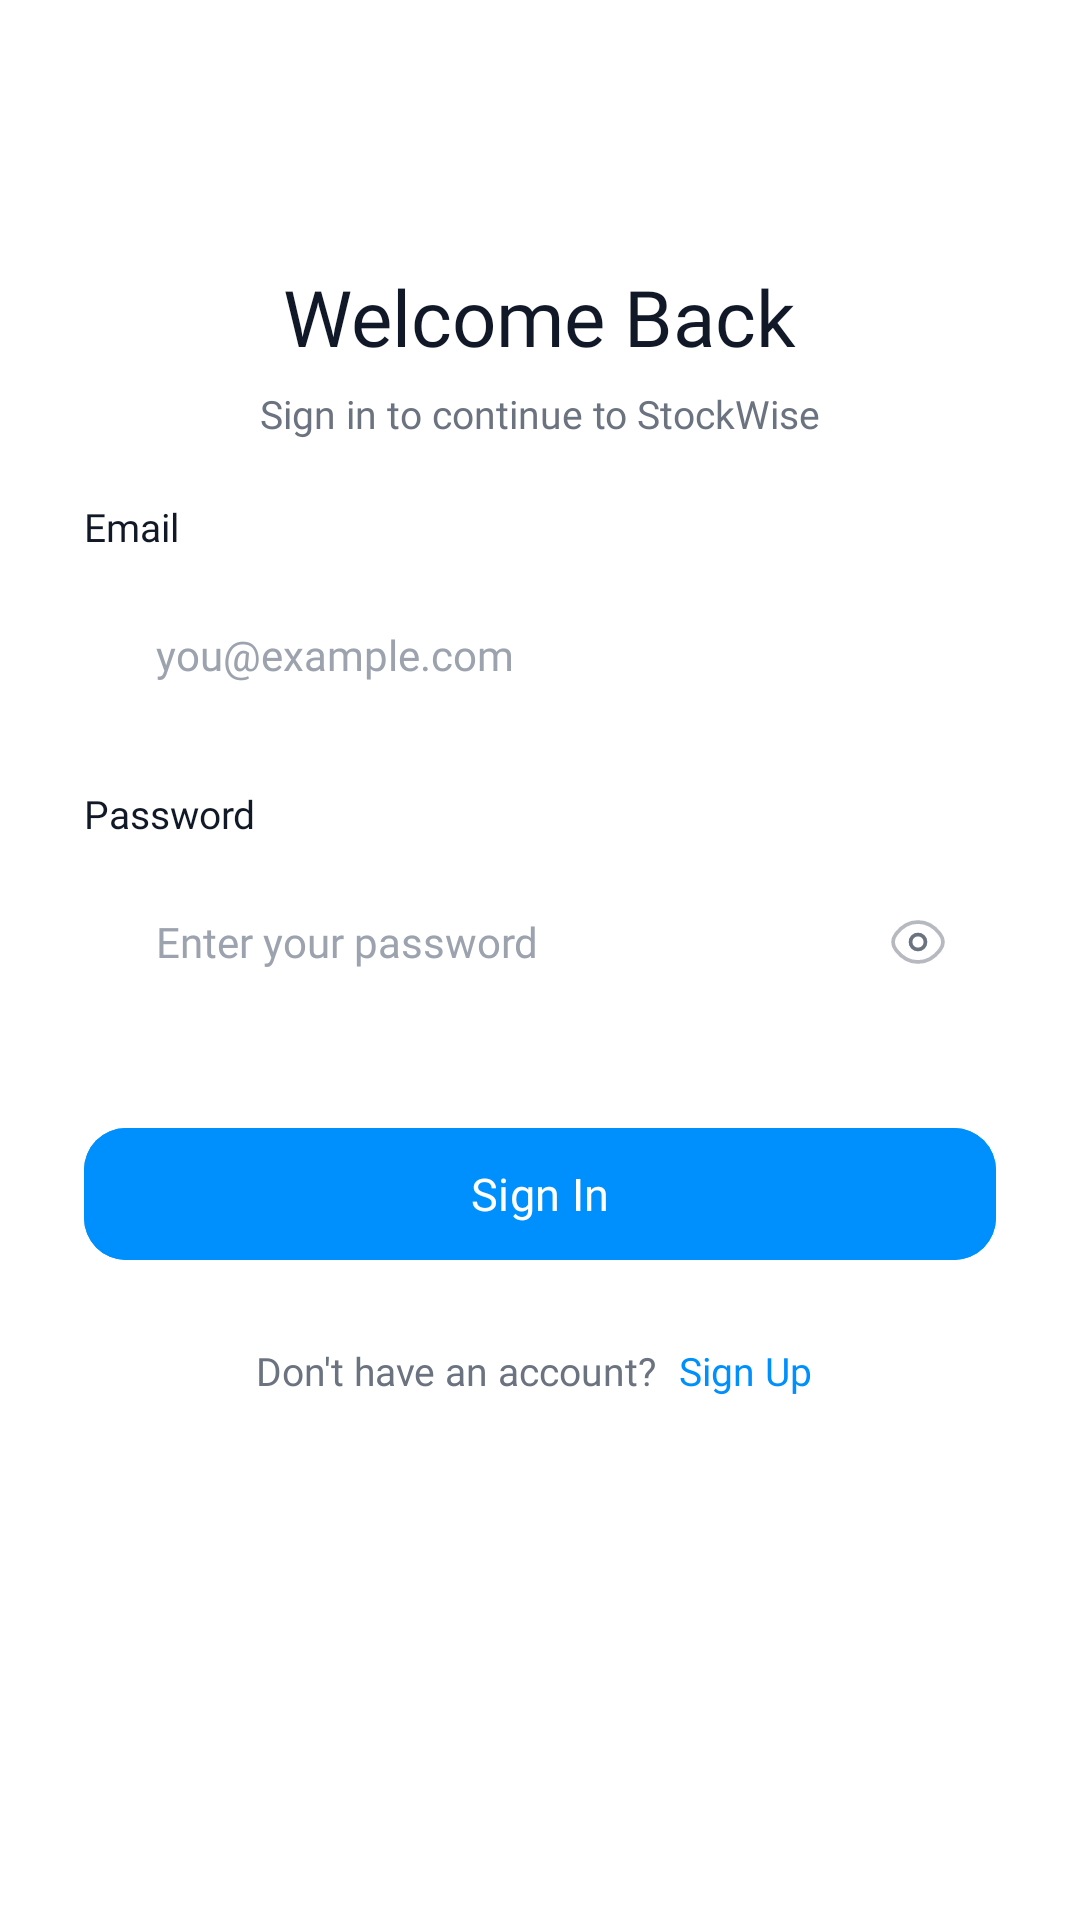

Screen size 1080px x 1920px. Icon name, then its box in pixels as (x1,y1,x2,y2):
eye: (891,920,945,964)
